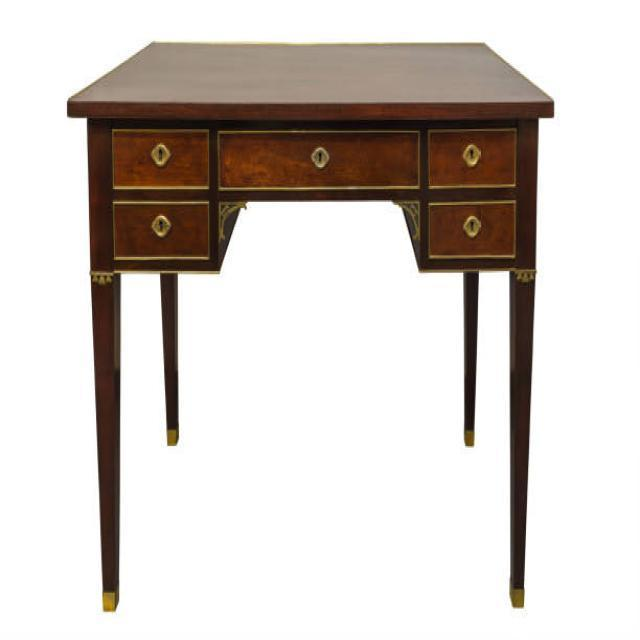table: (66, 38, 554, 612)
